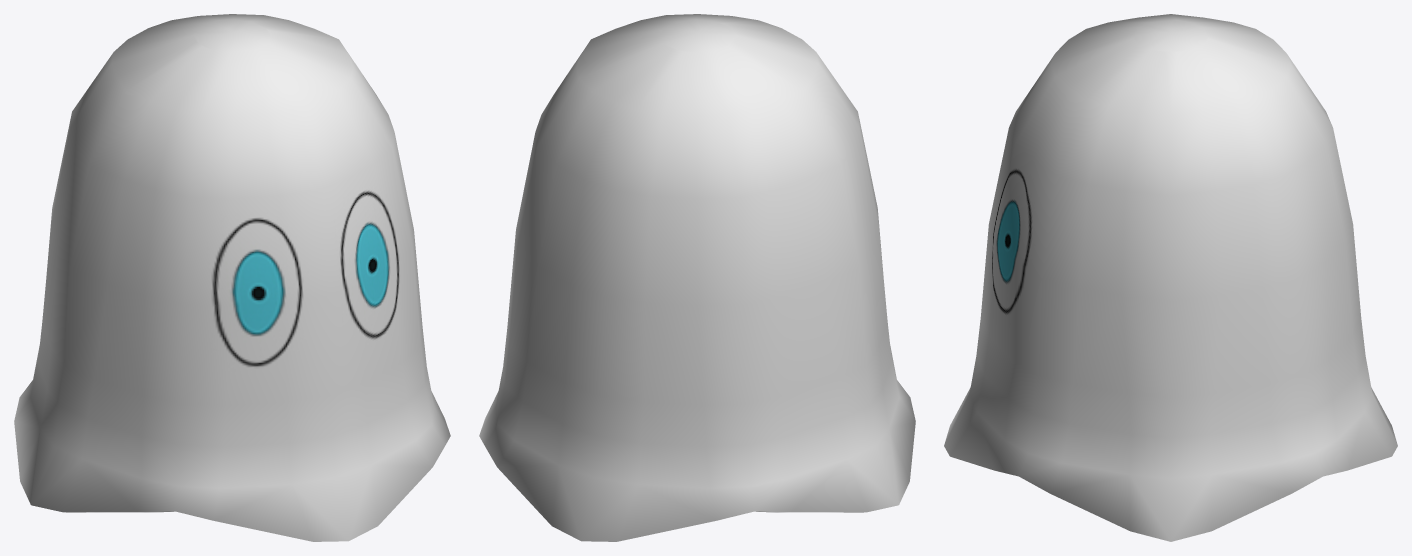
The model's file is FBXghostkodomo.fbx.
3 renders of one model, left to right at view 1: azimuth 30°, elevation 25°; view 2: azimuth 150°, elevation 25°; view 3: azimuth 270°, elevation 25°, orthographic. The views are drawn at different scales.
Parts seen in each view (by area): view 1: polySurface21; view 2: polySurface21; view 3: polySurface21.
Boxes of the visible parts, x1,y1,x2,y2 form: polySurface21: (14,14,450,541); polySurface21: (479,14,915,541); polySurface21: (944,14,1397,541).
Size of the model in its own units: 3 by 3.05 by 3.
